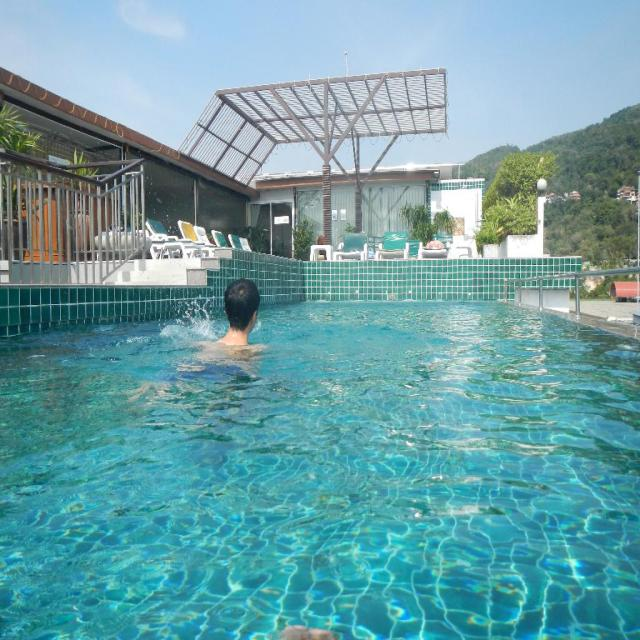Person: (215, 278, 260, 345)
